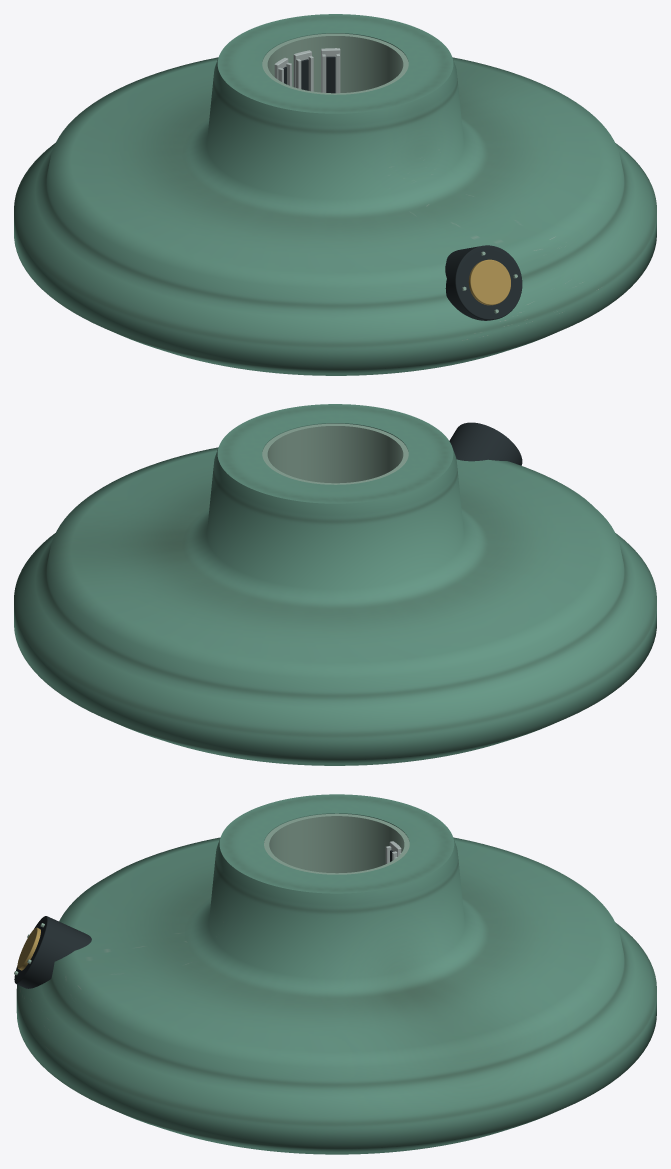
3 renders of one model, top to bottom at view 1: azimuth 30°, elevation 25°; view 2: azimuth 150°, elevation 25°; view 3: azimuth 270°, elevation 25°, orthographic.
Visible parts, largest first — view 1: RI11 stepped launch housing, RI11 embedded open port liner, RI11 front fitting cast retaining bezel, RI11 front brass inset fitting; view 2: RI11 stepped launch housing, RI11 embedded open port liner, RI11 front fitting cast retaining bezel; view 3: RI11 stepped launch housing, RI11 embedded open port liner, RI11 front fitting cast retaining bezel.
Part boxes in pixels (box(x1,y1,x2,y2)): RI11 stepped launch housing: box(14, 14, 656, 375); RI11 embedded open port liner: box(262, 33, 408, 94); RI11 front fitting cast retaining bezel: box(445, 245, 522, 320); RI11 front brass inset fitting: box(468, 259, 510, 305); RI11 stepped launch housing: box(14, 404, 656, 765); RI11 embedded open port liner: box(262, 423, 408, 484); RI11 front fitting cast retaining bezel: box(449, 422, 522, 465); RI11 stepped launch housing: box(16, 794, 656, 1154); RI11 embedded open port liner: box(264, 813, 409, 874); RI11 front fitting cast retaining bezel: box(14, 916, 91, 988).
Bounding box in the file's own units: 1.8 × 0.6 × 1.81.
Materials: 6 (2 with a texture image).
